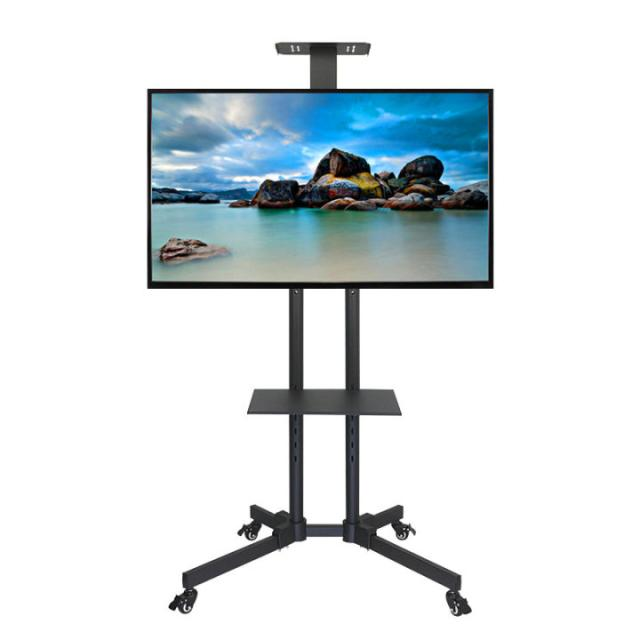electronics: (148, 43, 491, 613), (148, 91, 492, 285)
